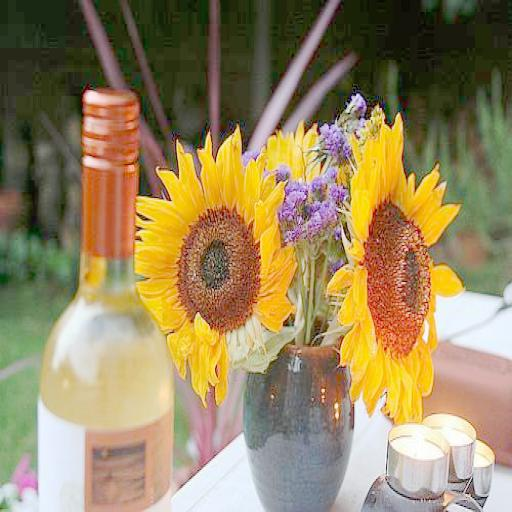sunflower: (137, 125, 296, 407), (326, 110, 465, 426)
